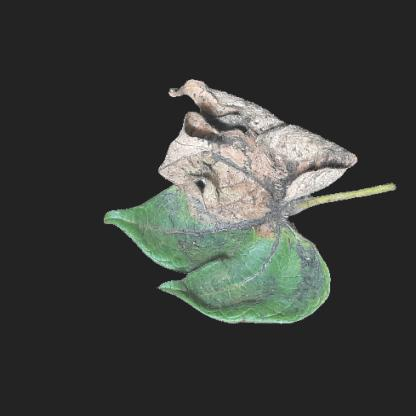sooty: (204, 111, 323, 239), (157, 195, 215, 262), (286, 239, 327, 321), (211, 272, 289, 314)
